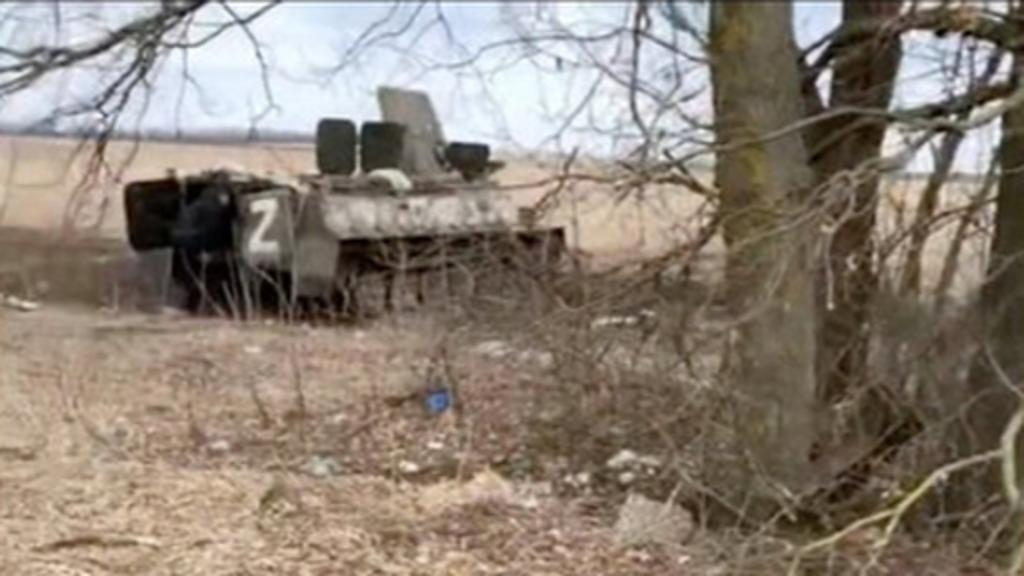APC-IFV: (108, 76, 572, 338)
